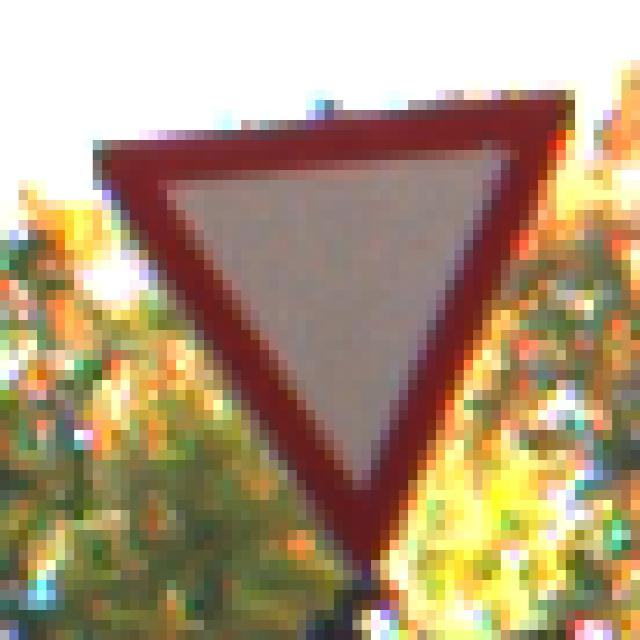Give Way: (66, 61, 585, 591)
